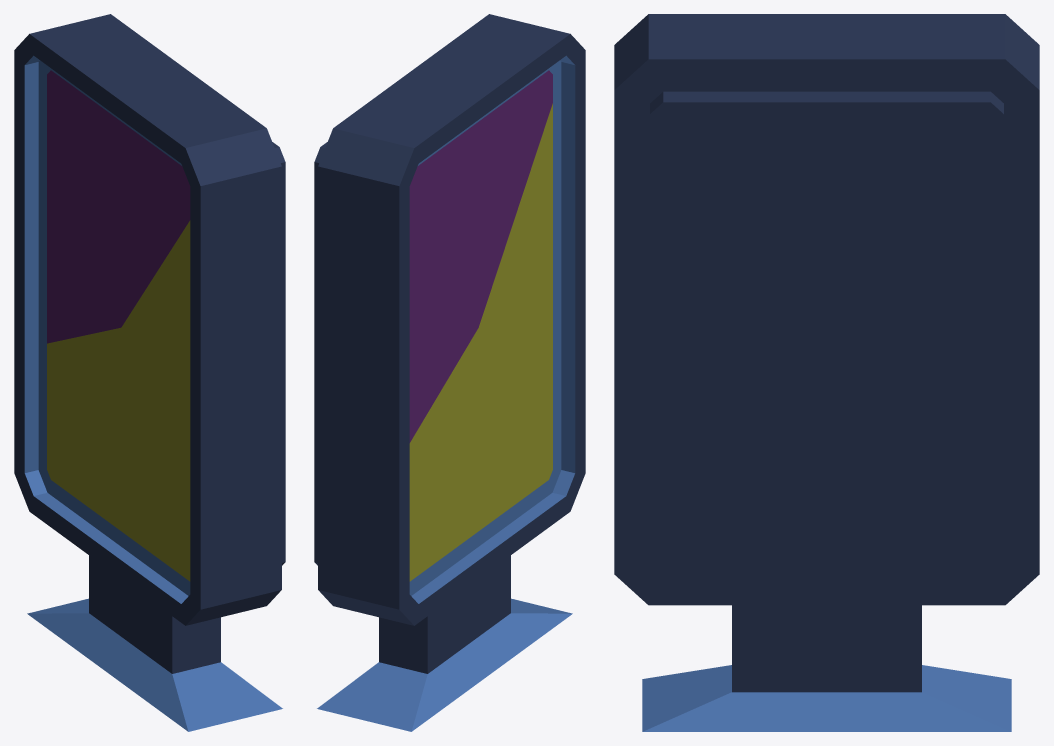
The model's file is AdDisplay02.fbx.
3 renders of one model, left to right at view 1: azimuth 30°, elevation 25°; view 2: azimuth 150°, elevation 25°; view 3: azimuth 270°, elevation 25°, orthographic. The views are drawn at different scales.
Parts seen in each view (by area): view 1: AdDisplay02; view 2: AdDisplay02; view 3: AdDisplay02.
Part boxes in pixels (left/top/right/bottom): AdDisplay02: left=14, top=14, right=285, bottom=731; AdDisplay02: left=314, top=14, right=585, bottom=731; AdDisplay02: left=614, top=14, right=1039, bottom=731.
Size of the model in its own units: 51.29 by 284 by 164.
